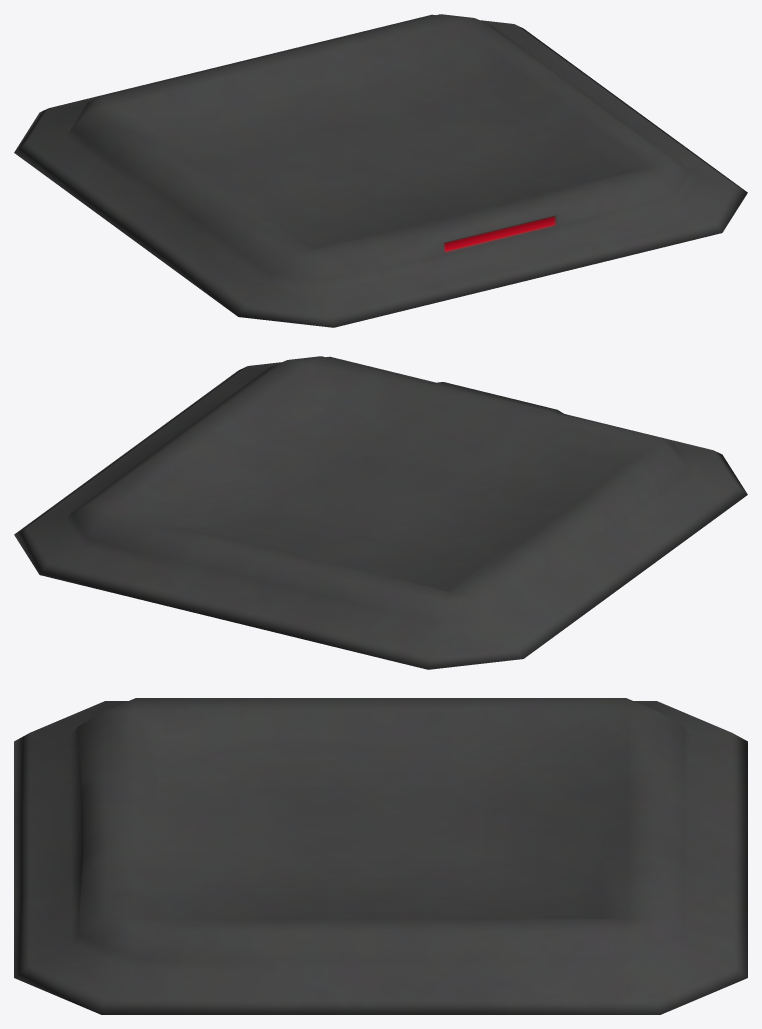
File: Button_off.glb
3 views of the same model, one above another, from view 1: azimuth 30°, elevation 25°; view 2: azimuth 150°, elevation 25°; view 3: azimuth 270°, elevation 25° (orthographic). The views are drawn at different scales.
Parts seen in each view (by area): view 1: Cube.006; view 2: Cube.006; view 3: Cube.006.
Part boxes in pixels (bbox=[...]): Cube.006: bbox=[14, 14, 747, 327]; Cube.006: bbox=[14, 356, 747, 669]; Cube.006: bbox=[14, 698, 747, 1014].
Bounding box in the file's own units: 2 × 0.1344 × 2.
1 material, 1 textured.
